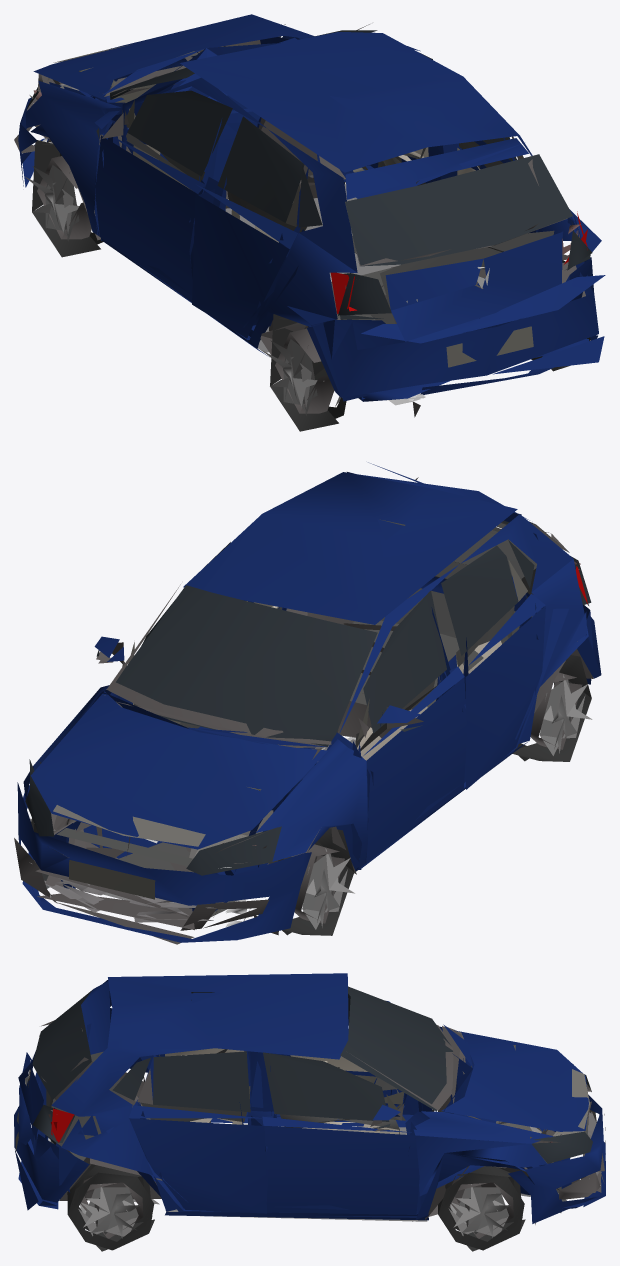
File: polo_lo.glb
3 renders of one model, top to bottom at view 1: azimuth 30°, elevation 25°; view 2: azimuth 150°, elevation 25°; view 3: azimuth 270°, elevation 25°, orthographic. The views are drawn at different scales.
Visible parts, largest first — view 1: car_polo; view 2: car_polo; view 3: car_polo.
Part boxes in pixels (x1,y1,x2,y2): car_polo: [14, 14, 605, 431]; car_polo: [14, 462, 601, 944]; car_polo: [14, 973, 605, 1251].
Size of the model in its own units: 1.95 by 1.46 by 3.96.
